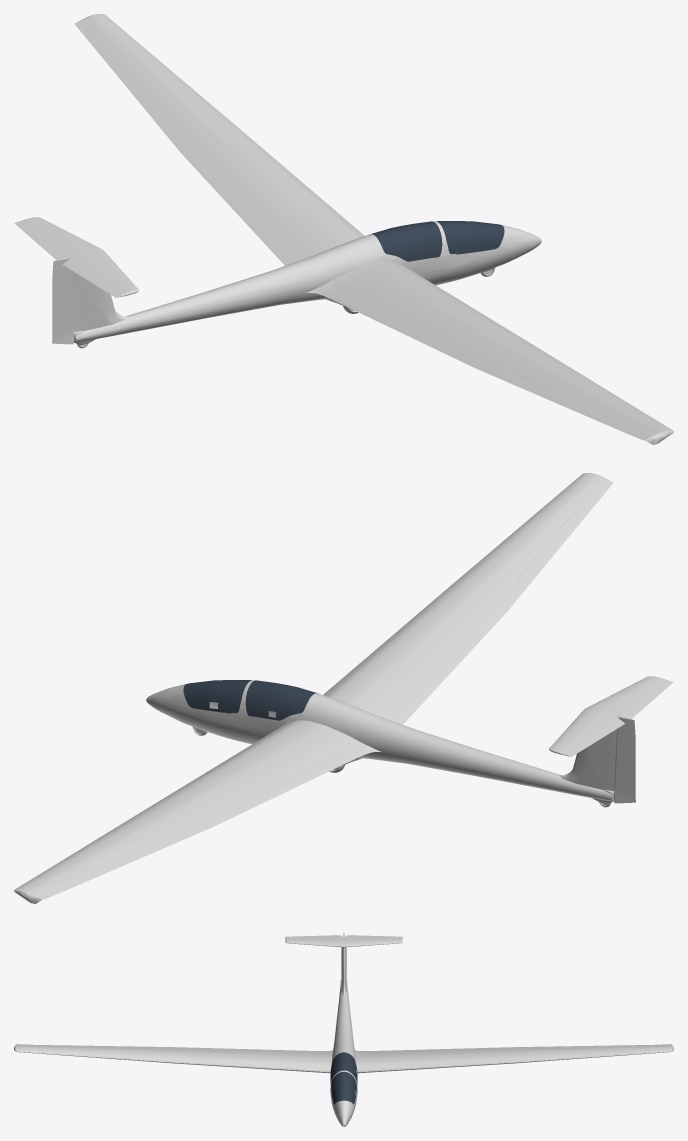
File: ask21.glb
3 renders of one model, top to bottom at view 1: azimuth 30°, elevation 25°; view 2: azimuth 150°, elevation 25°; view 3: azimuth 270°, elevation 25°, orthographic. The views are drawn at different scales.
Parts seen in each view (by area): view 1: body, glass; view 2: body, glass; view 3: body, glass.
Part boxes in pixels (x1=…): body: x1=14, y1=14, x2=673, y2=444; glass: x1=370, y1=221, x2=504, y2=261; body: x1=14, y1=473, x2=673, y2=903; glass: x1=183, y1=680, x2=317, y2=720; body: x1=14, y1=933, x2=673, y2=1126; glass: x1=330, y1=1052, x2=357, y2=1104.
Bounding box in the file's own units: 1.08 × 0.2677 × 2.2.
